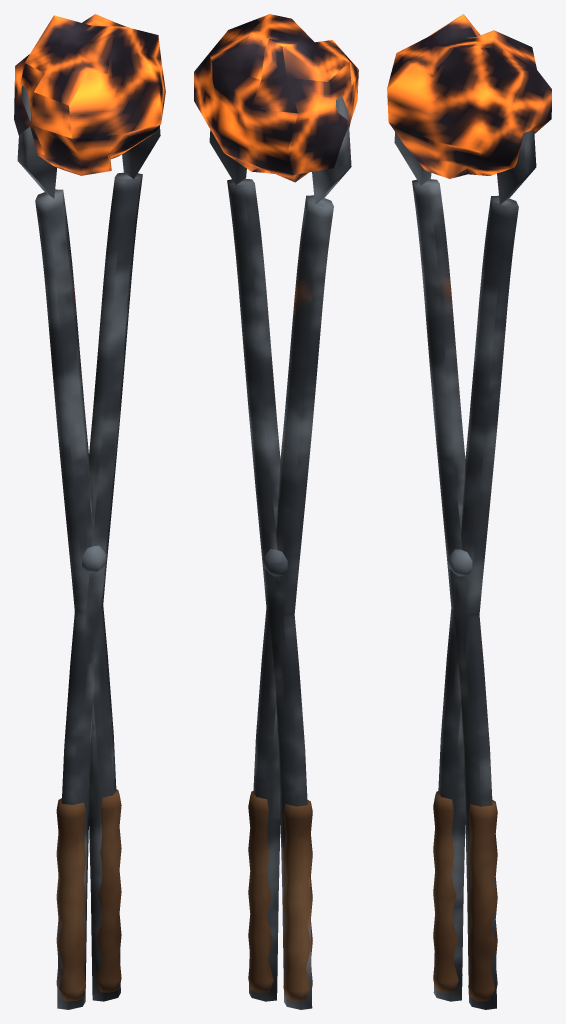
File: FurnaceTongs.fbx
3 views of the same model, side by side, from view 1: azimuth 30°, elevation 25°; view 2: azimuth 150°, elevation 25°; view 3: azimuth 330°, elevation 25° (orthographic).
Parts seen in each view (by area): view 1: FurnaceTongs; view 2: FurnaceTongs; view 3: FurnaceTongs.
Boxes of the visible parts, box(x1,y1,x2,y2) form: FurnaceTongs: box(14, 14, 165, 1009); FurnaceTongs: box(194, 14, 358, 1009); FurnaceTongs: box(387, 14, 551, 1009).
Bounding box in the file's own units: 0.1618 × 1.06 × 0.1313.
